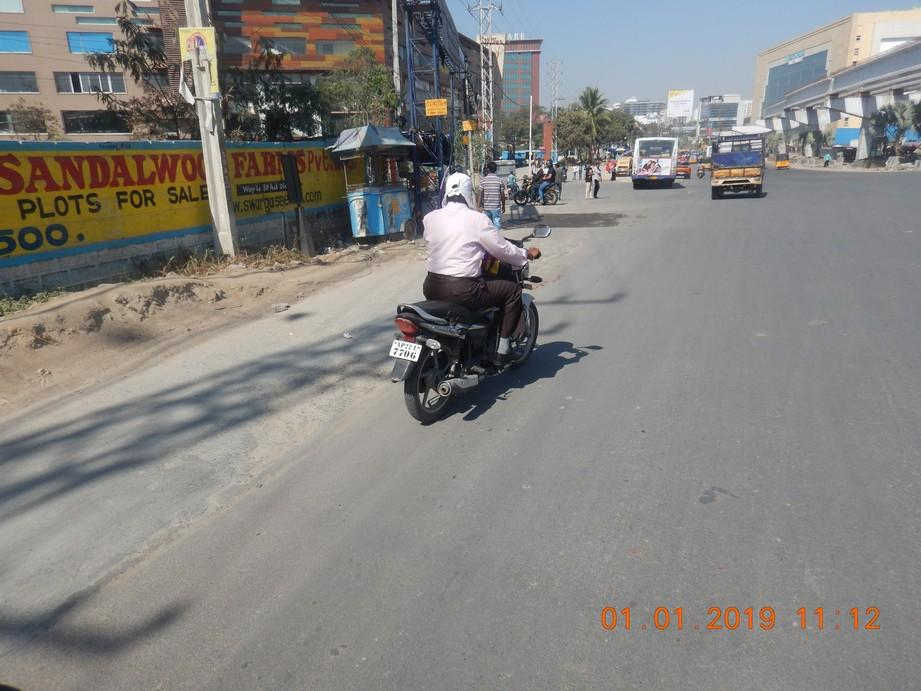plate: (389, 338, 424, 364)
